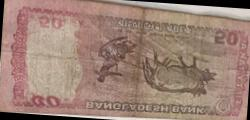50 taka: (4, 6, 245, 116)
